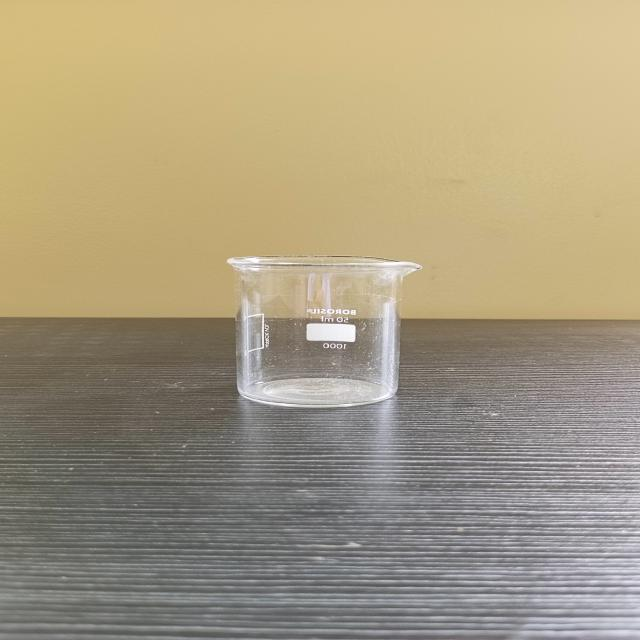beaker: (219, 249, 429, 413)
